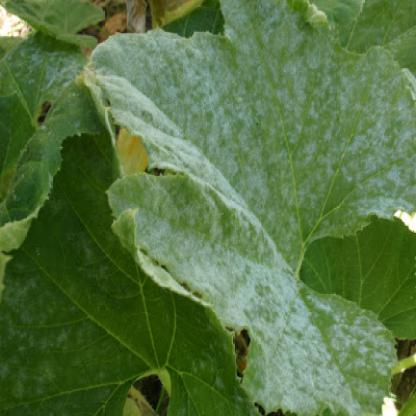Squash Powdery mildew leaf: (78, 1, 412, 410)
